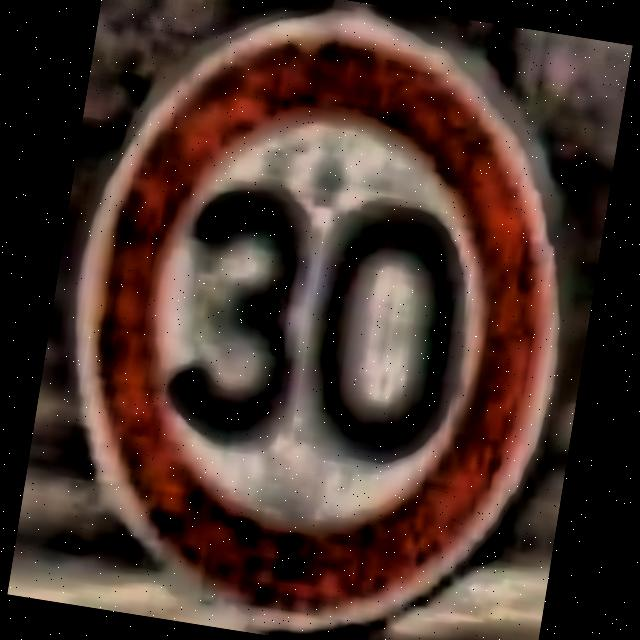speed_30: (7, 0, 631, 640)
